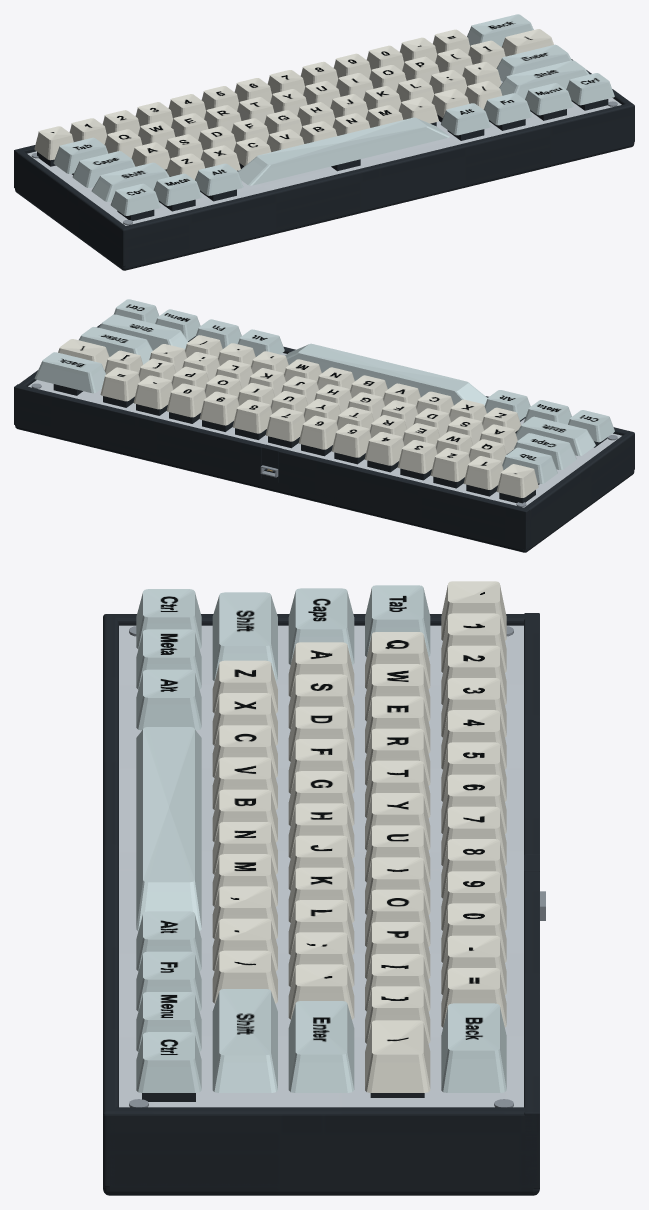
The model's file is keyboard.glb.
3 views of the same model, one above another, from view 1: azimuth 30°, elevation 25°; view 2: azimuth 150°, elevation 25°; view 3: azimuth 270°, elevation 25° (orthographic). The views are drawn at different scales.
Parts seen in each view (by area): view 1: Front case wall, Closed lower case, Keycap 57 Space, Side case wall, Switch mounting plate, Keycap 53 Shift, Keycap 42 Shift, Keycap 41 Enter, Keycap 14 Back, Keycap 29 Caps, Keycap 58 Alt, Keycap 54 Ctrl (+53 smaller); view 2: Rear case wall beside USB, Rear case wall beside USB.001, Closed lower case, Side case wall, Keycap 57 Space, Switch mounting plate, Keycap 14 Back, Keycap 53 Shift, Keycap 42 Shift, Keycap 41 Enter, Keycap 29 Caps, Keycap 15 Tab (+55 smaller); view 3: Switch mounting plate, Side case wall.001, Keycap 57 Space, Front case wall, Closed lower case, Keycap 53 Shift, Keycap 41 Enter, Keycap 14 Back, Rear case wall beside USB.001, Keycap 42 Shift, Keycap 28 \, Rear case wall beside USB (+56 smaller).
Part boxes in pixels (<box>): Front case wall: <box>122,103,633,266</box>; Closed lower case: <box>15,137,634,270</box>; Keycap 57 Space: <box>238,117,449,185</box>; Side case wall: <box>14,150,128,266</box>; Switch mounting plate: <box>27,80,621,225</box>; Keycap 53 Shift: <box>499,60,589,99</box>; Keycap 42 Shift: <box>91,162,169,201</box>; Keycap 41 Enter: <box>496,44,571,81</box>; Keycap 14 Back: <box>467,14,533,46</box>; Keycap 29 Caps: <box>72,151,135,187</box>; Keycap 58 Alt: <box>441,103,490,135</box>; Keycap 54 Ctrl: <box>110,183,160,215</box>; Rear case wall beside USB: <box>278,448,529,549</box>; Rear case wall beside USB.001: <box>14,384,265,483</box>; Closed lower case: <box>15,419,634,552</box>; Side case wall: <box>521,431,634,547</box>; Keycap 57 Space: <box>285,343,487,405</box>; Switch mounting plate: <box>28,353,621,507</box>; Keycap 14 Back: <box>34,352,105,393</box>; Keycap 53 Shift: <box>99,314,188,350</box>; Keycap 42 Shift: <box>516,416,595,456</box>; Keycap 41 Enter: <box>79,327,152,364</box>; Keycap 29 Caps: <box>513,433,576,469</box>; Keycap 15 Tab: <box>502,447,557,483</box>; Switch mounting plate: <box>119,625,523,1107</box>; Side case wall.001: <box>103,1107,536,1187</box>; Keycap 57 Space: <box>136,727,201,930</box>; Front case wall: <box>103,614,118,1186</box>; Closed lower case: <box>103,1175,539,1195</box>; Keycap 53 Shift: <box>212,989,277,1092</box>; Keycap 41 Enter: <box>288,1001,354,1092</box>; Keycap 14 Back: <box>441,1003,506,1092</box>; Rear case wall beside USB.001: <box>524,871,539,1188</box>; Keycap 42 Shift: <box>212,592,277,681</box>; Keycap 28 \: <box>365,1020,430,1092</box>; Rear case wall beside USB: <box>524,613,539,854</box>.
Bounding box in the file's own units: 0.2958 × 0.0369 × 0.1108.
7 materials, 7 textured.
